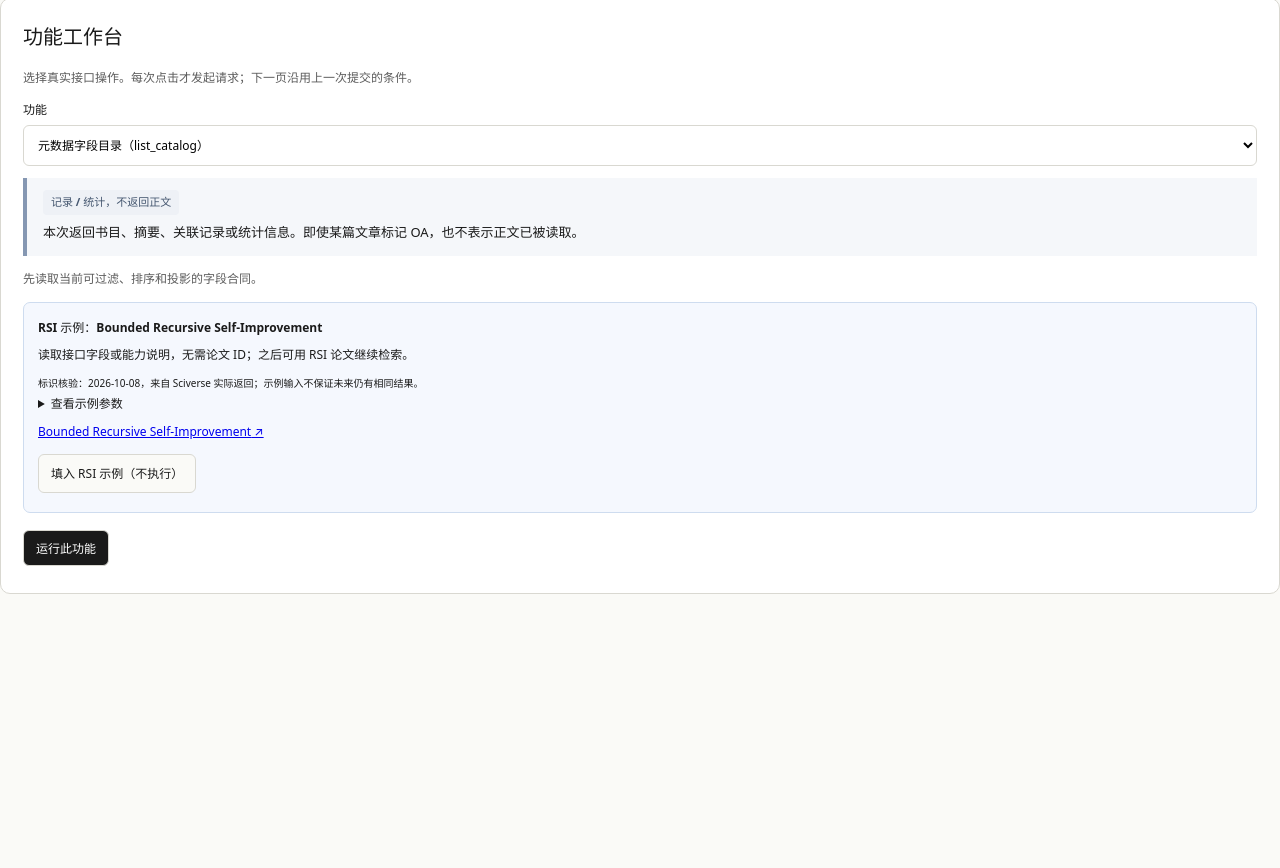
Test: switches content parameters without requests, compares actual modes and keeps response labels stable
Select "读取论文原文（read_content）" in the dropdown named "选择接口功能" at x=640, y=146, box [23, 125, 1257, 166]
(page scrolled)
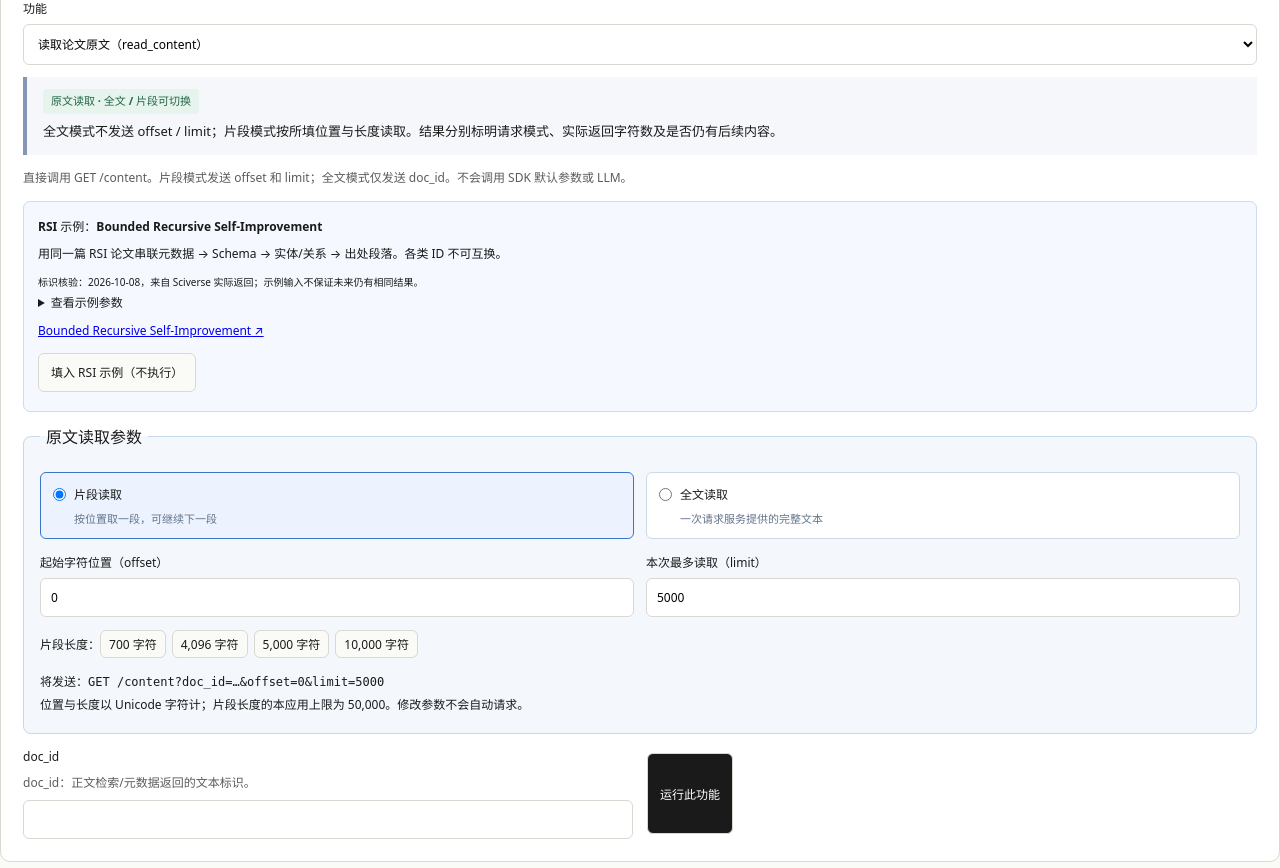
Type "doc1" into the field labelled "doc_id".
click(328, 820); type("doc1")  # box [23, 800, 633, 839]
Replace the text in the number field named "原文起始字符位置" with "20" at x=337, y=598, box [40, 578, 634, 617]
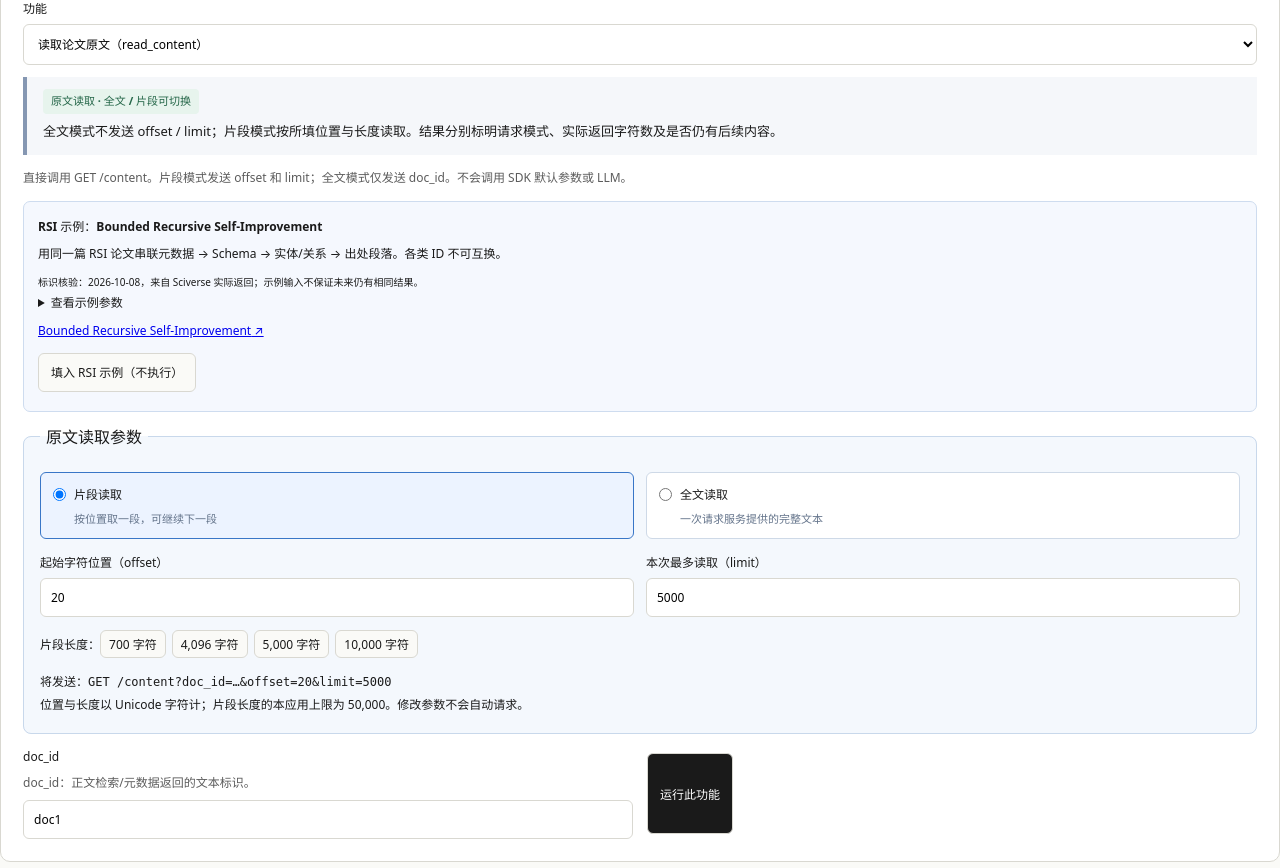
Replace the text in the number field named "原文片段长度" with "700" at x=943, y=598, box [646, 578, 1240, 617]
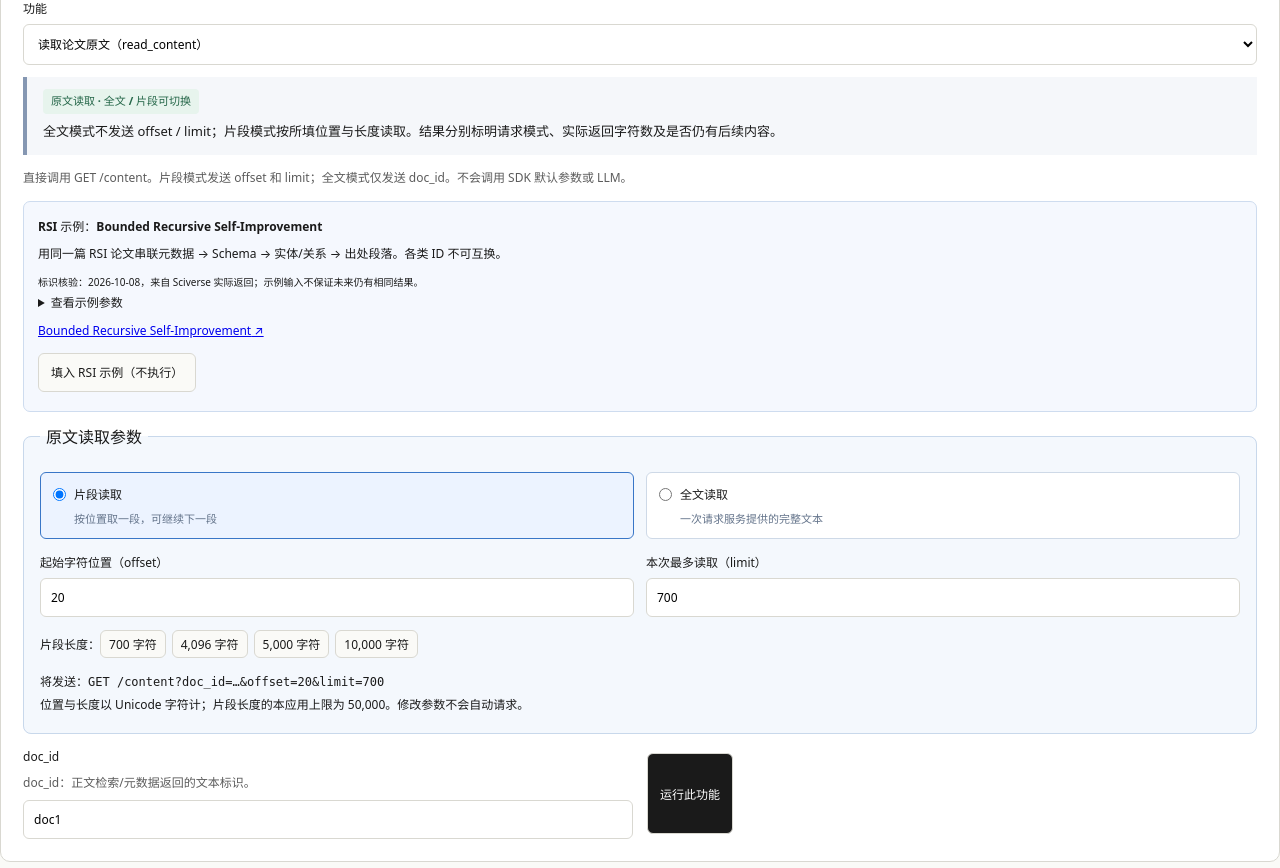
Click the button "运行此功能".
click(690, 794)  # box [647, 753, 733, 834]
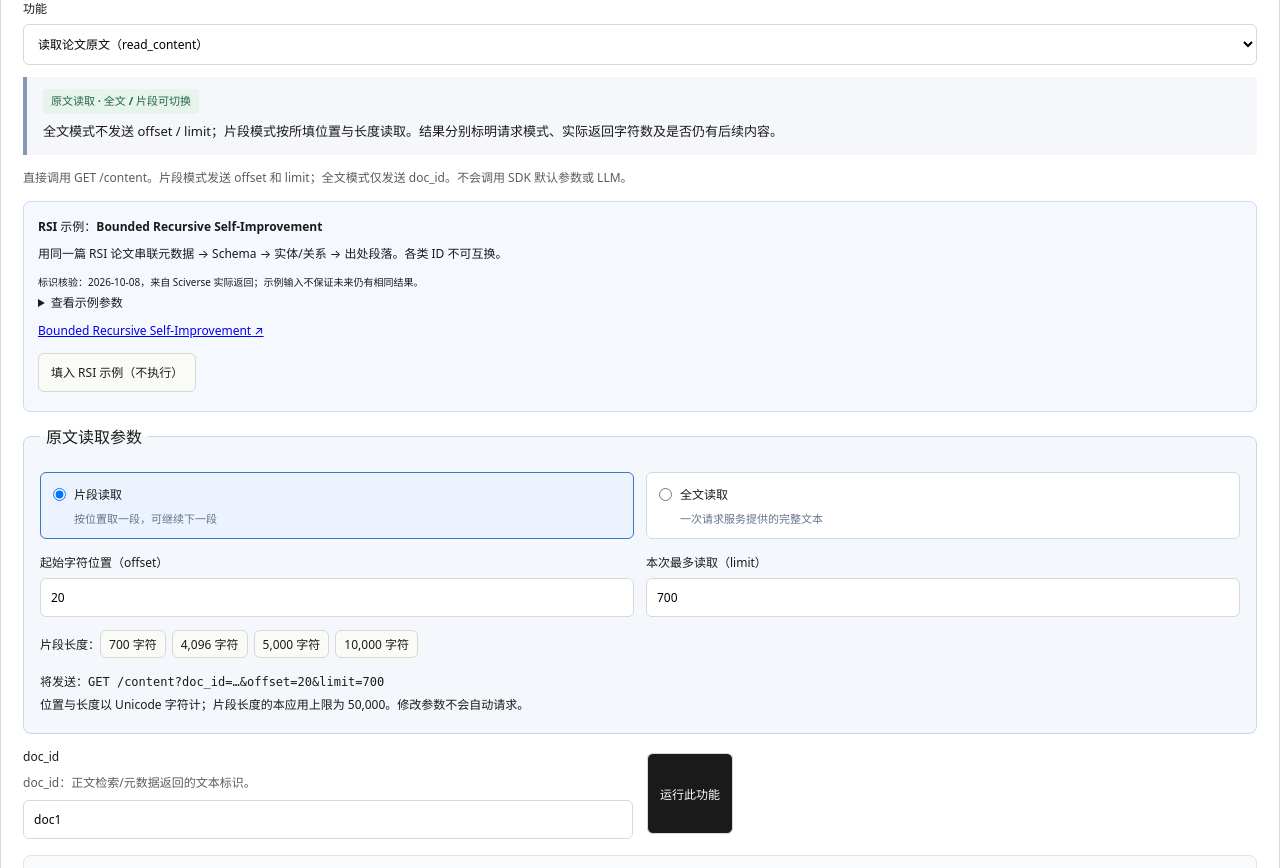
Click the radio button labelled "全文读取 一次请求服务提供的完整文本".
click(666, 494)  # box [659, 488, 672, 501]
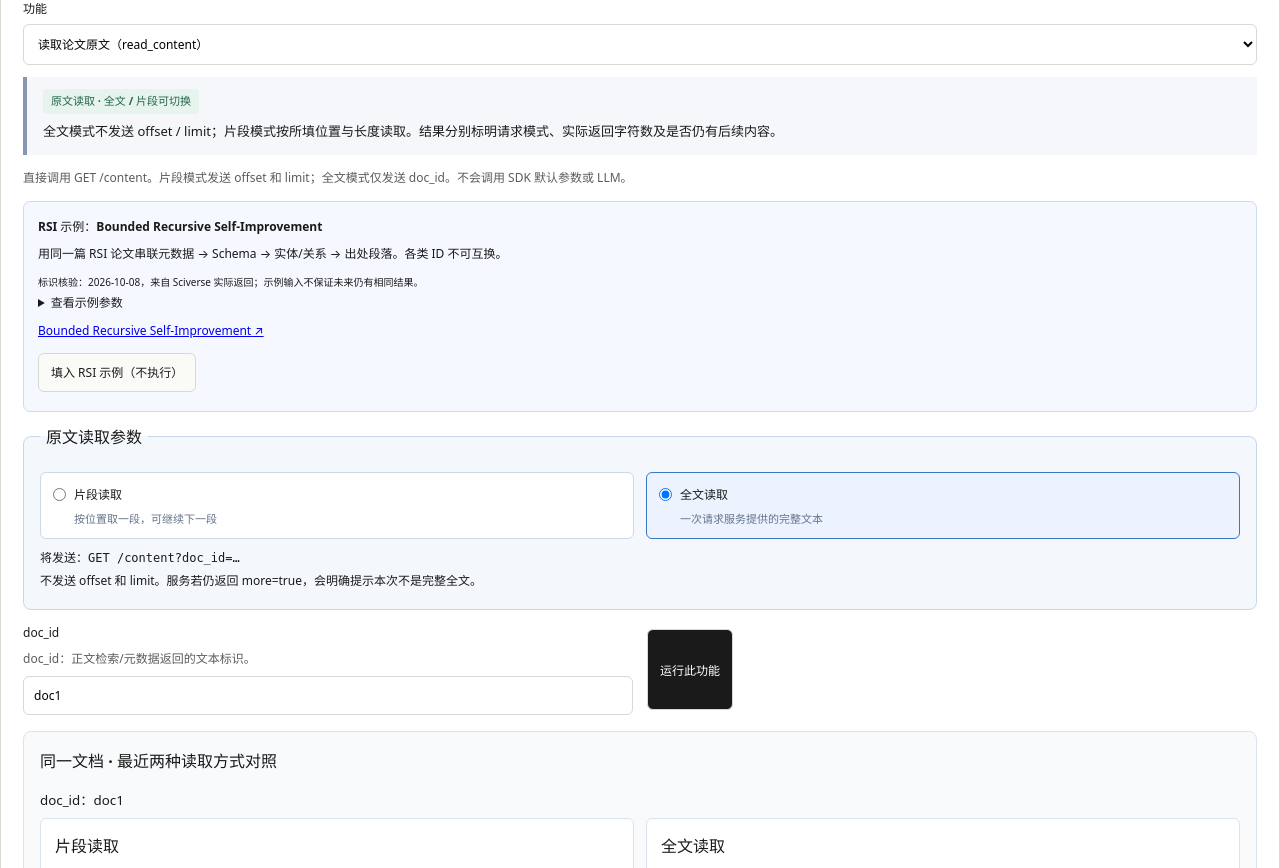
Expected: the number field labelled "原文起始字符位置" is gone
Click the button "运行此功能".
click(690, 670)  # box [647, 629, 733, 710]
(page scrolled)
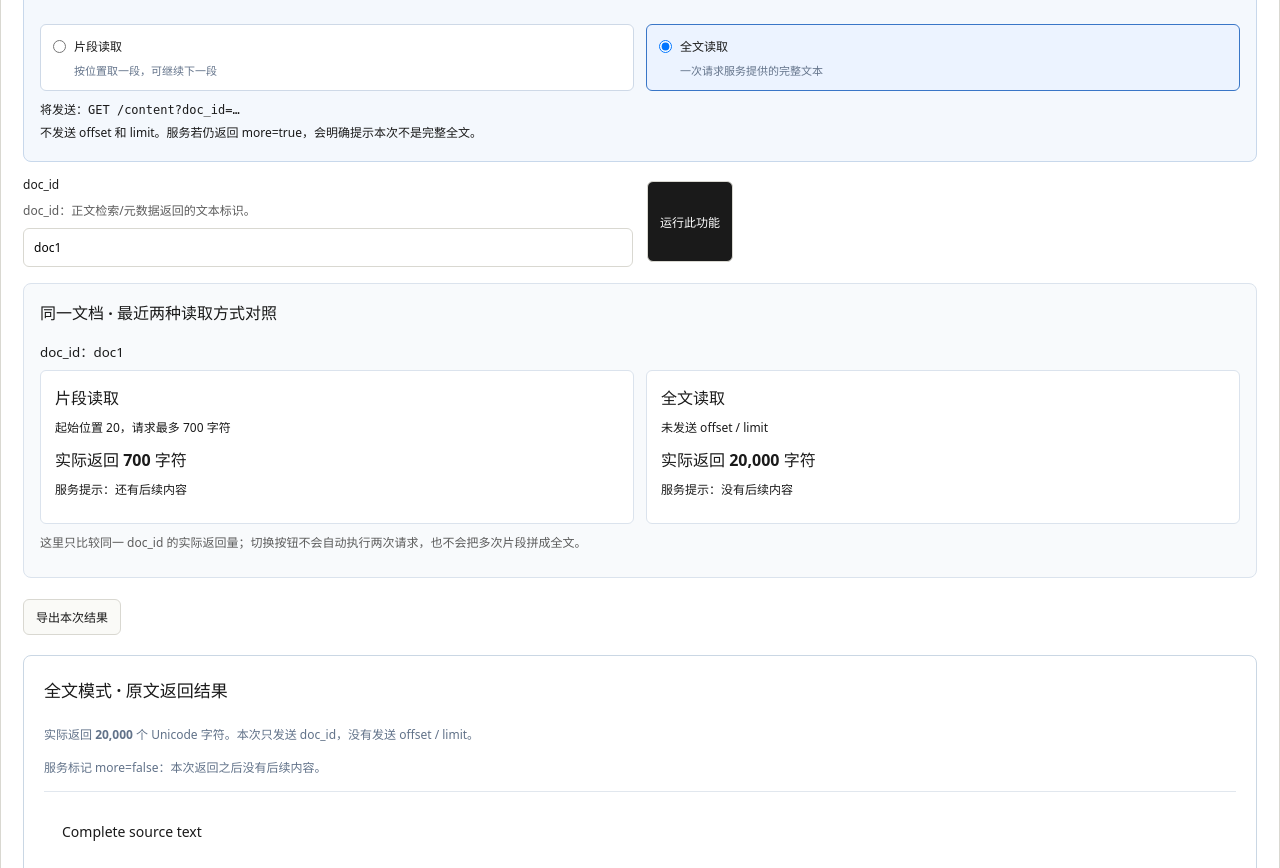
Expected: the text "Complete source text" is shown, [62, 822, 202, 841]
Expected: the heading "全文模式 · 原文返回结果" is shown, [44, 679, 228, 702]
Expected: the element named "同一文档读取方式对照" shows "20,000", [729, 449, 780, 471]
